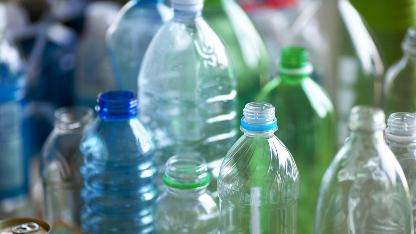Plastic Bottle: (313, 104, 415, 234), (78, 90, 156, 234), (218, 102, 298, 234)
